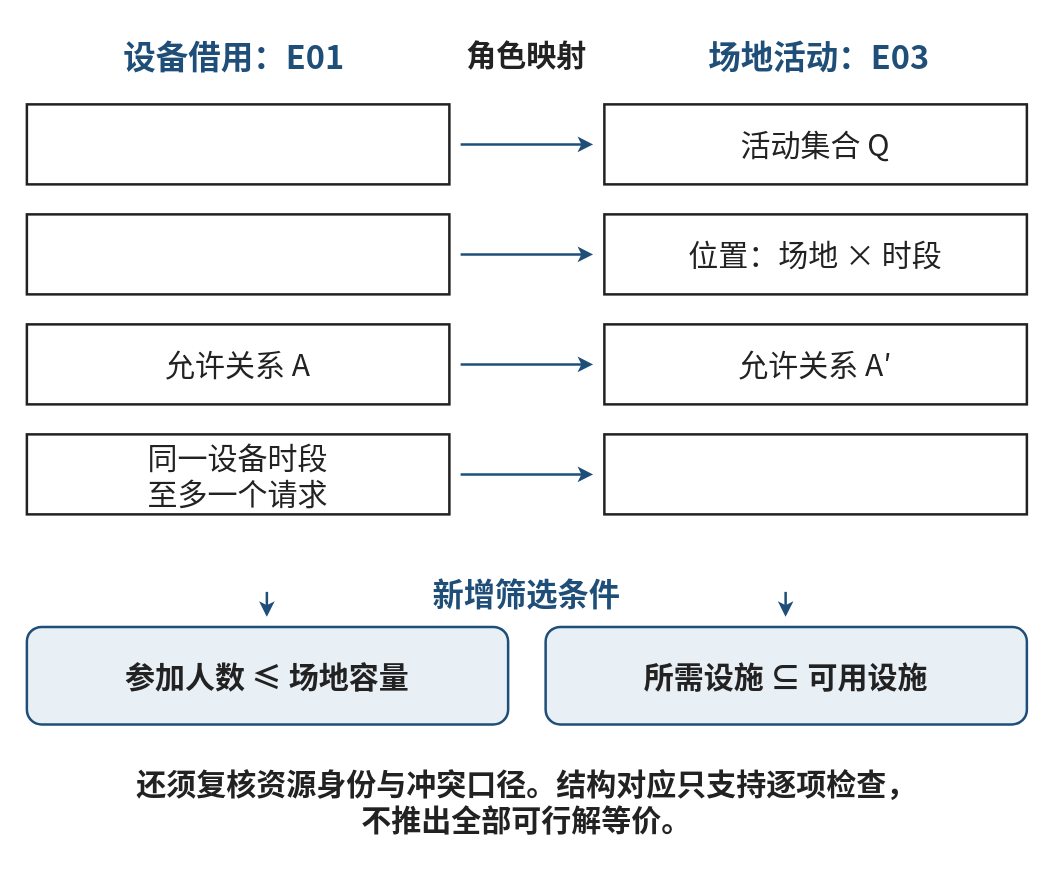
Image size: 1053x871. Some labels were removed from this diagram. Each missing label, with the centre of its shape:
"位置：设备 × 时段" goes at [237,253].
"同一场地时段 至多一项活动" goes at [815,473].
"请求集合 R" goes at [237,143].
